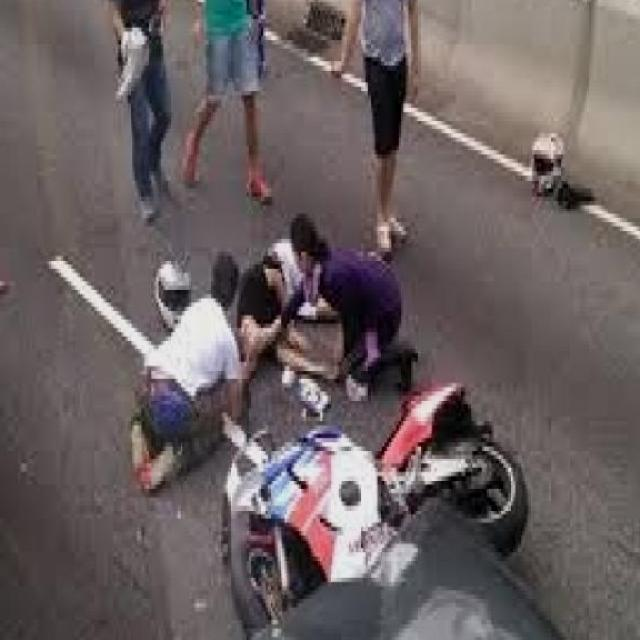accident: (203, 366, 549, 640)
